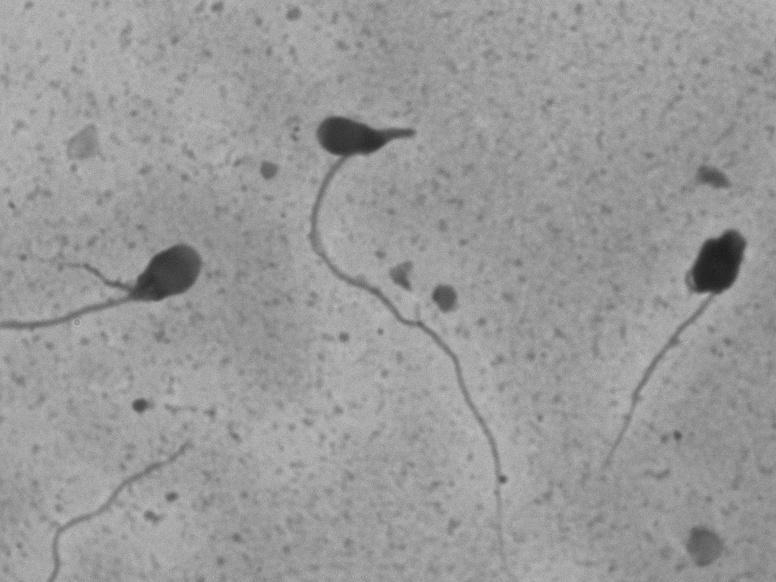Abnormal: (245, 91, 500, 483), (553, 209, 770, 487), (16, 201, 216, 405)
